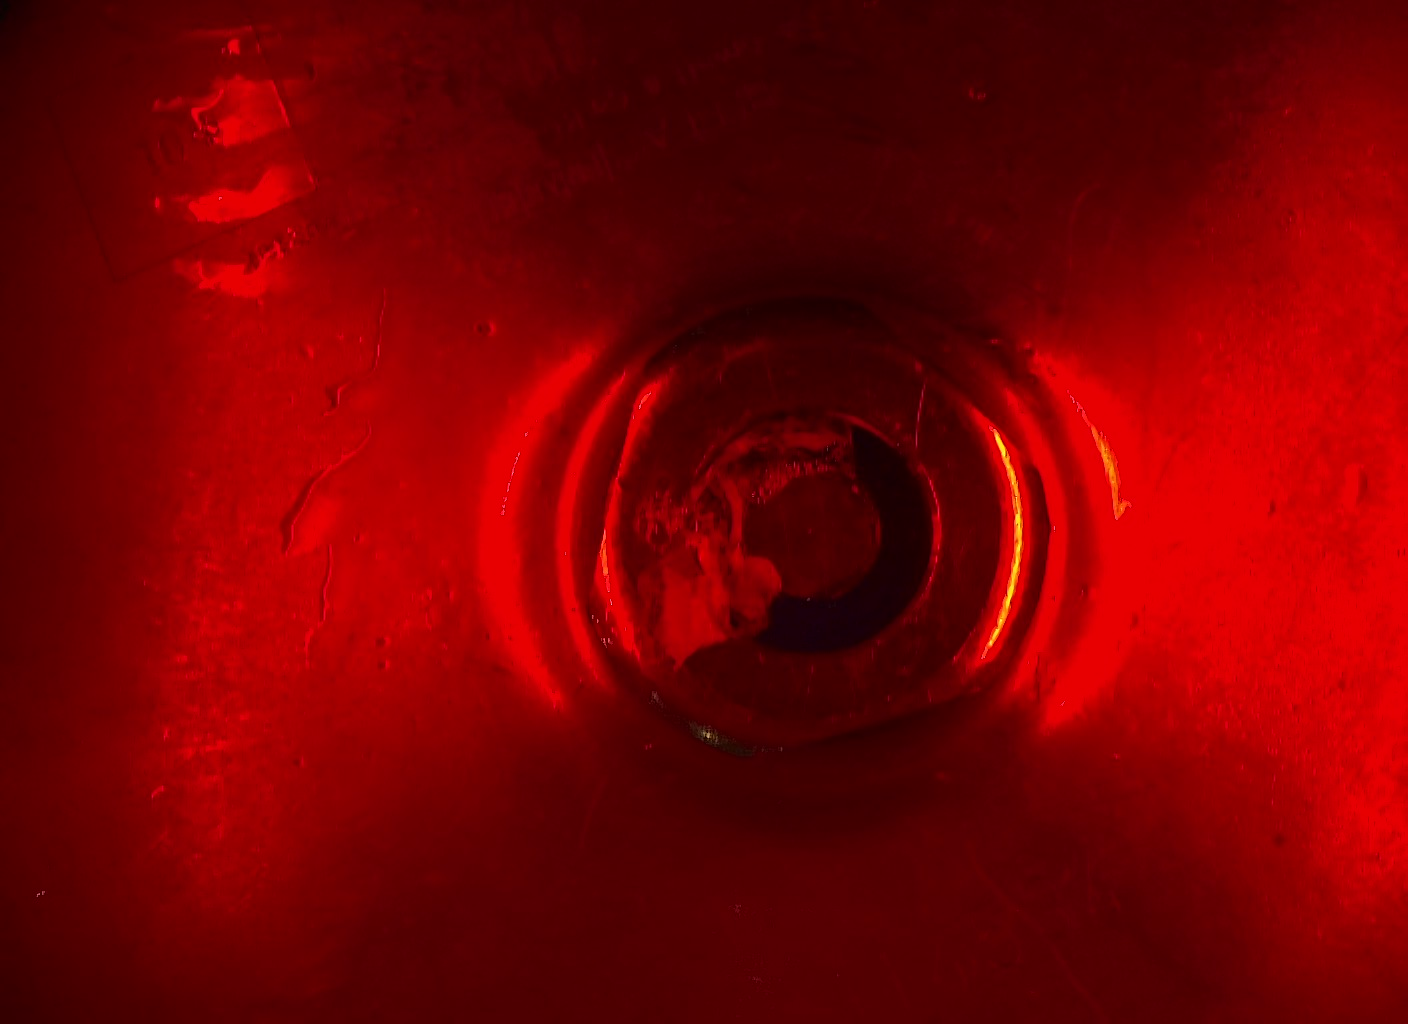pena: (627, 405, 854, 668)
